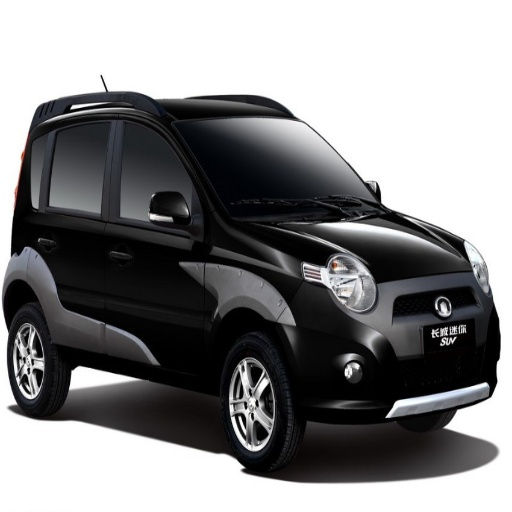front_bumper: (318, 297, 493, 419)
front_right_door: (106, 111, 203, 372)
front_right_light: (304, 250, 373, 314)
tailgate: (432, 259, 480, 324)
trunk: (361, 269, 439, 348)
